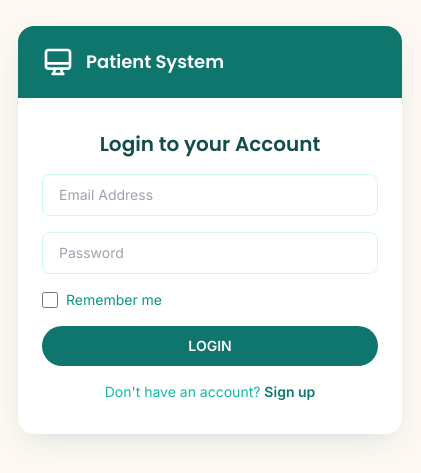
Test: Login page › shows an error when the password is too short
Type "patient@example.com" into the field with placeholder "Email Address" at (210, 195), box [42,174,378,216]
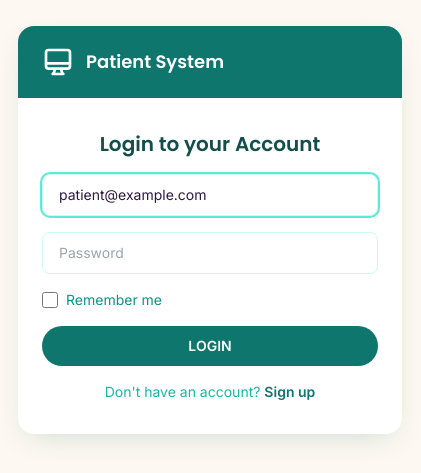
Type "123" into the password field with placeholder "Password" at (210, 253), box [42,232,378,274]
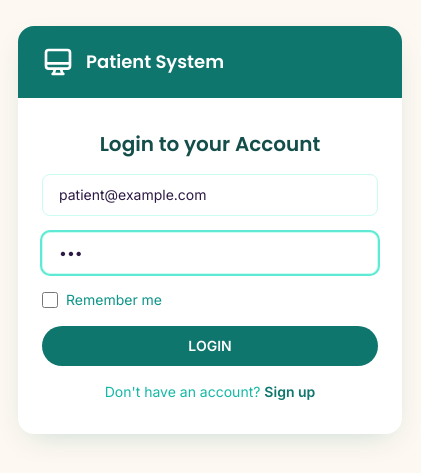
Click the button "LOGIN" at (210, 346), box [42,326,378,366]
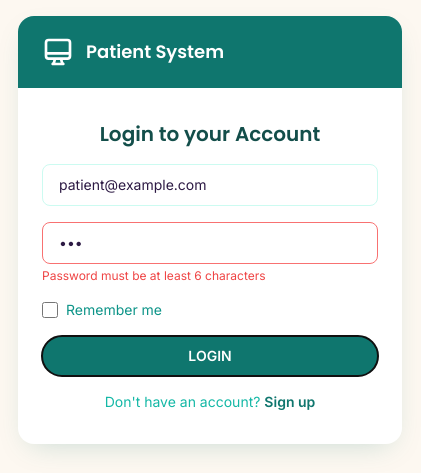
Result: the text "Password must be at least 6 characters" is shown at [42,268,266,283]
